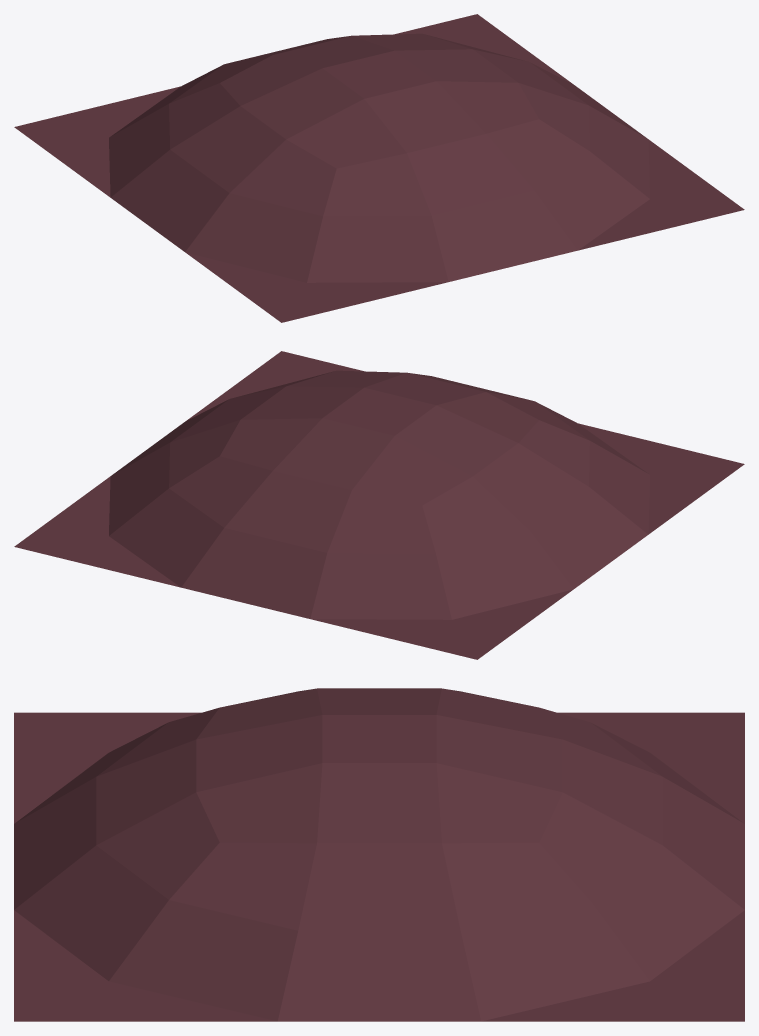
Rendered from tiles-nb-tile-plain-hump-nb.glb.
3 views of the same model, one above another, from view 1: azimuth 30°, elevation 25°; view 2: azimuth 150°, elevation 25°; view 3: azimuth 270°, elevation 25° (orthographic). The views are drawn at different scales.
Parts seen in each view (by area): view 1: tile-plain-hump-nb; view 2: tile-plain-hump-nb; view 3: tile-plain-hump-nb.
Boxes of the visible parts, x1=… form: tile-plain-hump-nb: x1=14, y1=14, x2=744, y2=322; tile-plain-hump-nb: x1=14, y1=351, x2=744, y2=659; tile-plain-hump-nb: x1=14, y1=688, x2=744, y2=1021.
Size of the model in its own units: 30 by 5.8 by 30.
